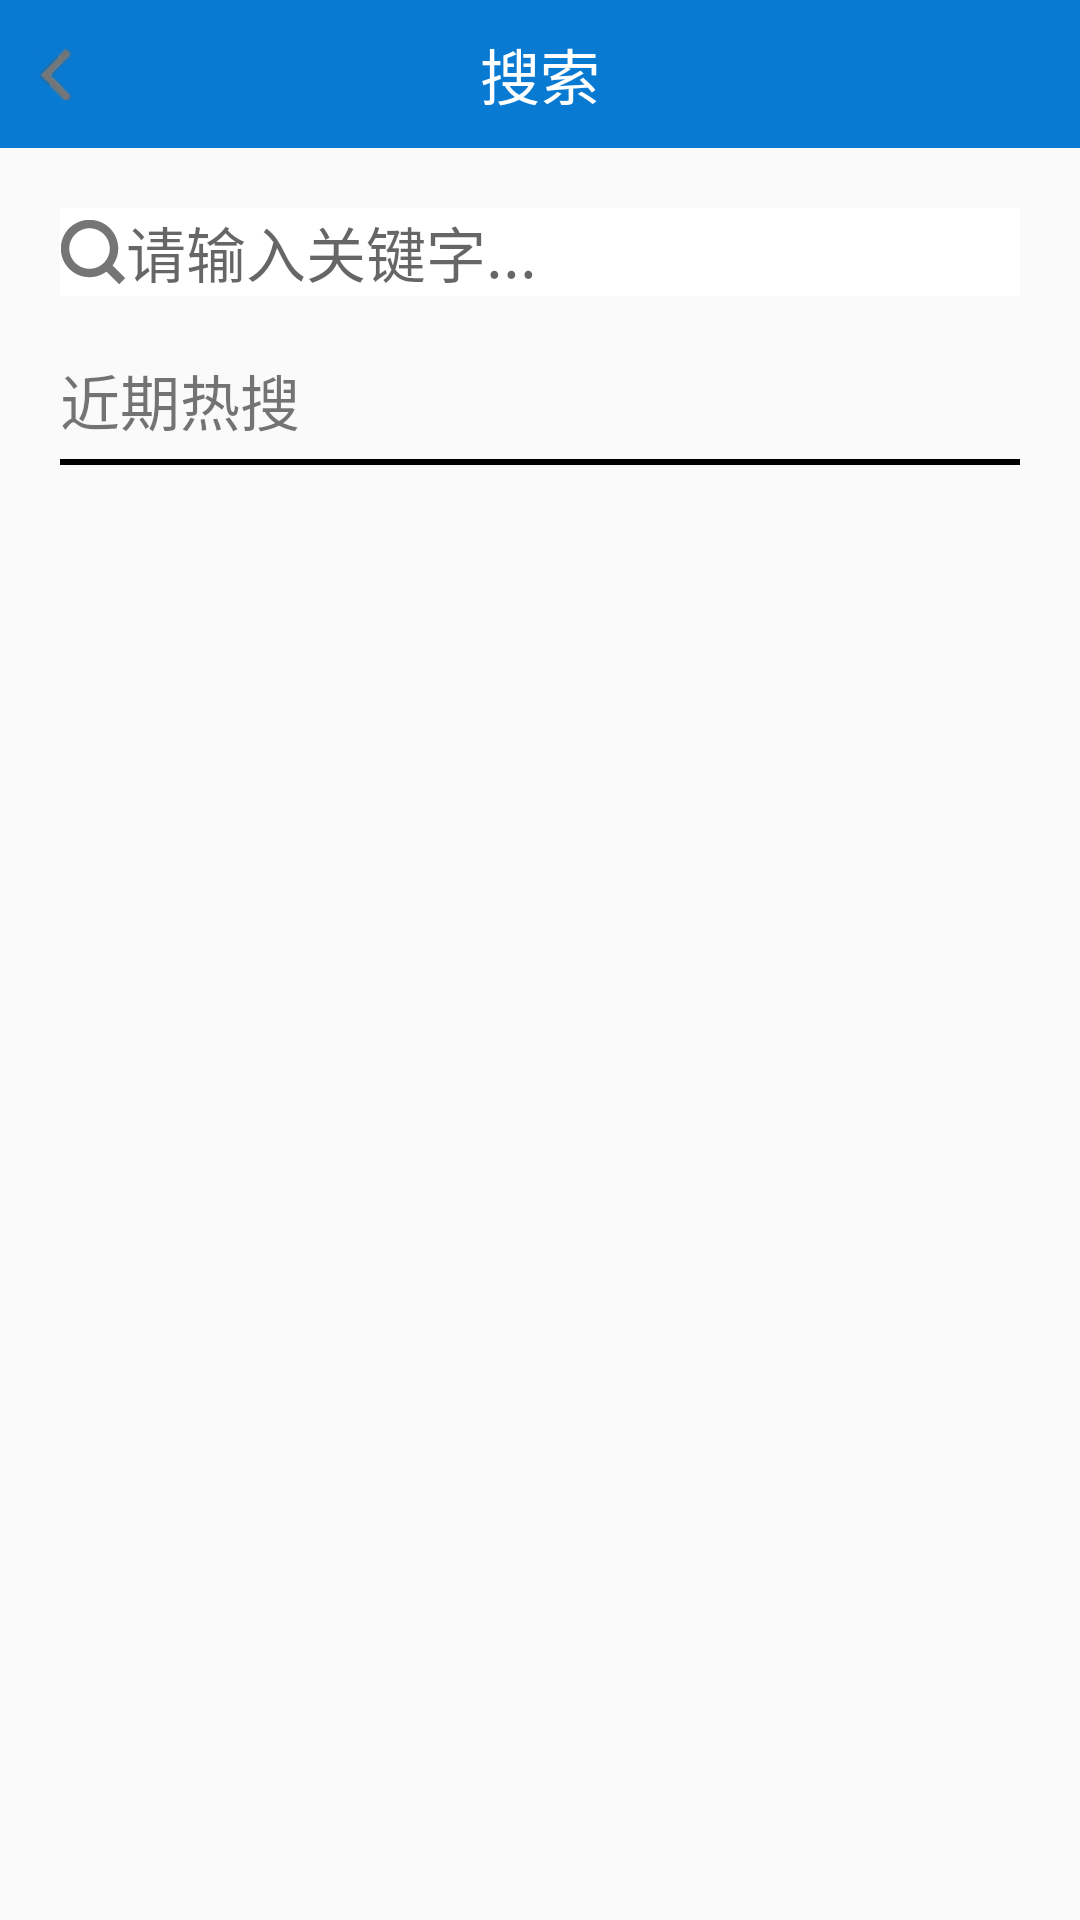

Where to tap for icons on this 1080w x 1920h app screen, as (x=x, y=y):
back: (x=55, y=74)
